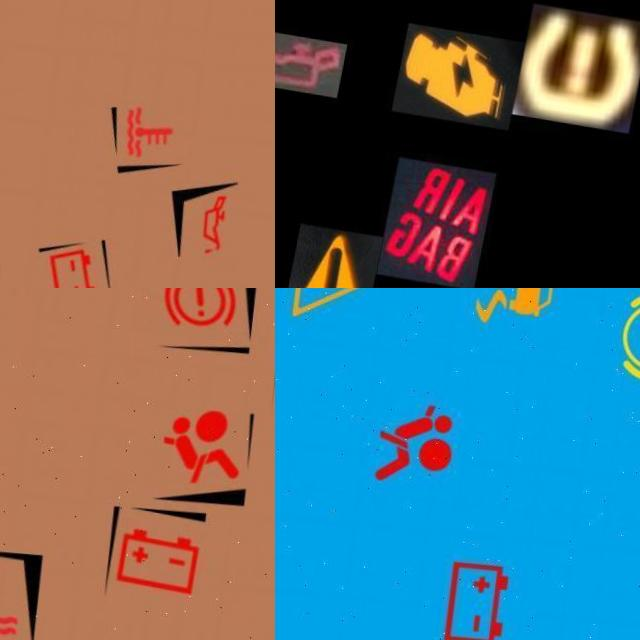Central Warning lamp: (293, 215, 396, 288)
